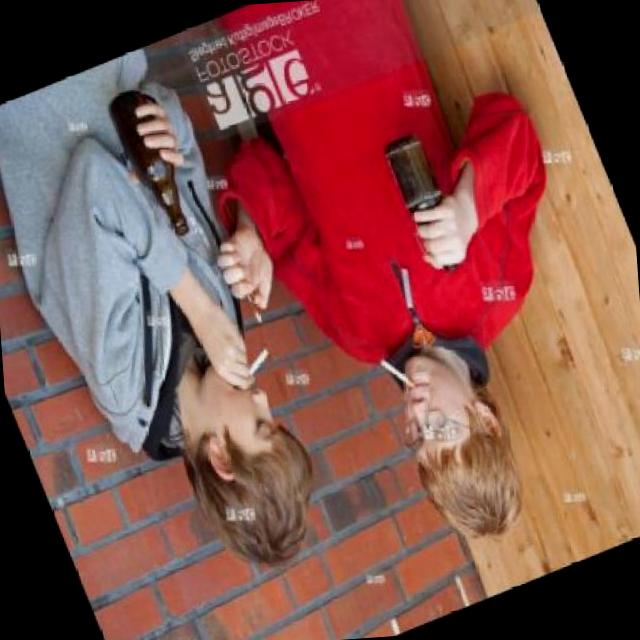cigarette: (196, 312, 276, 388), (376, 344, 420, 399)
